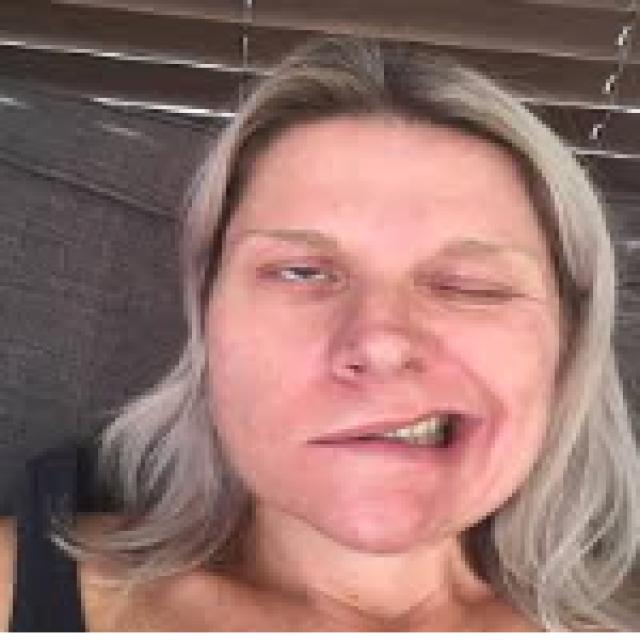stroke_face: (174, 34, 628, 597)
